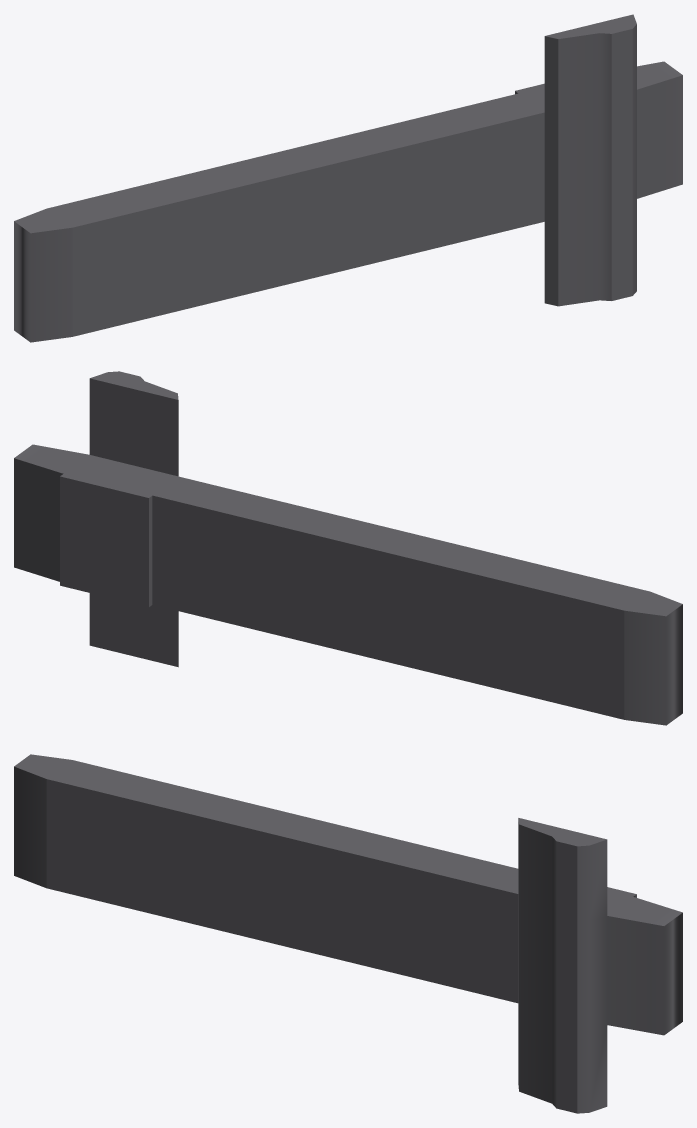
Rendered from Oda_Kaps_Kol.fbx.
3 views of the same model, one above another, from view 1: azimuth 30°, elevation 25°; view 2: azimuth 150°, elevation 25°; view 3: azimuth 330°, elevation 25° (orthographic).
Visible parts, largest first — view 1: Oda_Kapısı_Kol; view 2: Oda_Kapısı_Kol; view 3: Oda_Kapısı_Kol.
Part boxes in pixels (box(x1,y1,x2,y2)): Oda_Kapısı_Kol: box(14, 14, 682, 342); Oda_Kapısı_Kol: box(14, 371, 682, 725); Oda_Kapısı_Kol: box(14, 754, 682, 1113).
Bounding box in the file's own units: 329 × 129 × 38.63.
